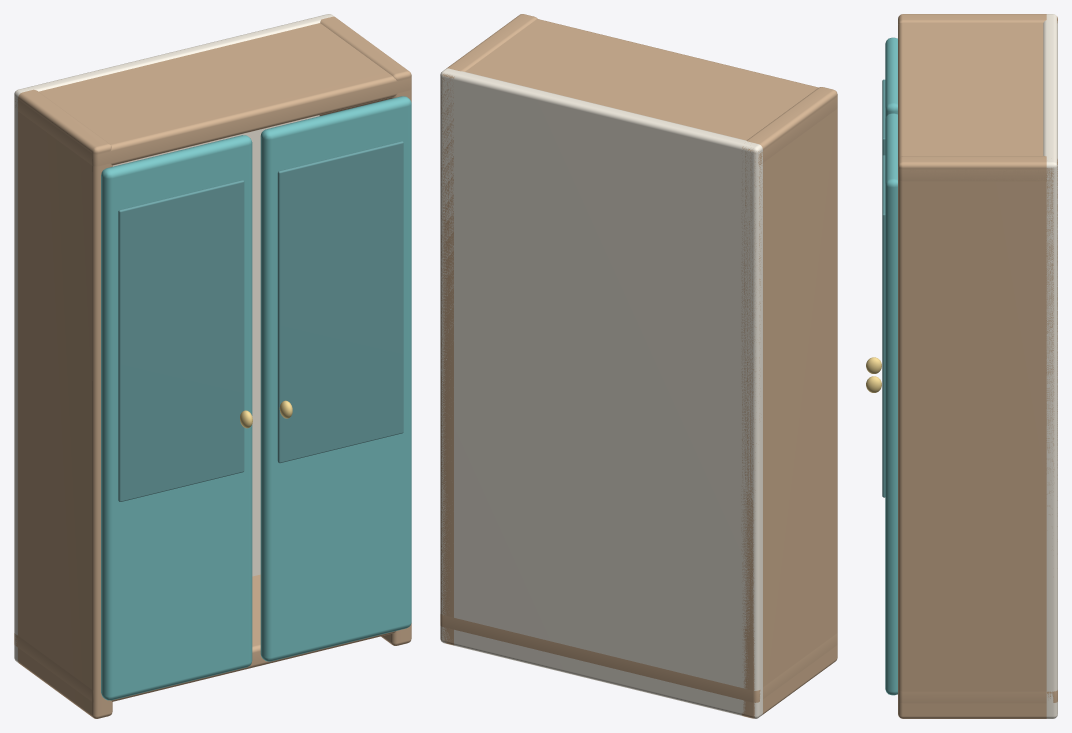
File: Wardrobe.fbx
3 renders of one model, left to right at view 1: azimuth 30°, elevation 25°; view 2: azimuth 150°, elevation 25°; view 3: azimuth 270°, elevation 25°, orthographic. The views are drawn at different scales.
Visible parts, largest first — view 1: Side, Door.001, Door, Inset, Inset.001, Frame.001, Back, Frame, Side.001; view 2: Back, Side, Frame.001, Side.001, Frame; view 3: Side.001, Frame.001, Back, Door.001, Frame, Inset.001, Side, Door.
Part boxes in pixels (<box>): Side: <box>18,89,112,718</box>; Door.001: <box>260,96,411,661</box>; Door: <box>101,135,252,700</box>; Inset: <box>118,180,244,501</box>; Inset.001: <box>277,141,403,463</box>; Frame.001: <box>15,23,411,166</box>; Back: <box>14,14,333,662</box>; Frame: <box>14,574,395,702</box>; Side.001: <box>319,16,411,645</box>; Back: <box>440,68,762,718</box>; Side: <box>741,87,837,718</box>; Frame.001: <box>465,19,837,165</box>; Side.001: <box>441,14,537,645</box>; Frame: <box>440,614,837,702</box>; Side.001: <box>898,156,1057,718</box>; Frame.001: <box>898,22,1053,181</box>; Back: <box>1043,14,1057,718</box>; Door.001: <box>885,113,897,695</box>; Frame: <box>898,690,1057,703</box>; Inset.001: <box>882,155,885,497</box>; Side: <box>898,14,1057,24</box>; Door: <box>885,37,897,118</box>.
Size of the model in its own units: 112 by 192 by 60.
